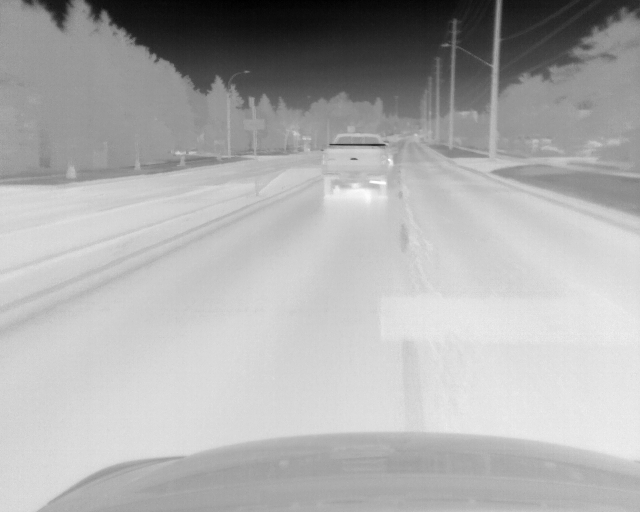car: (321, 131, 391, 202)
